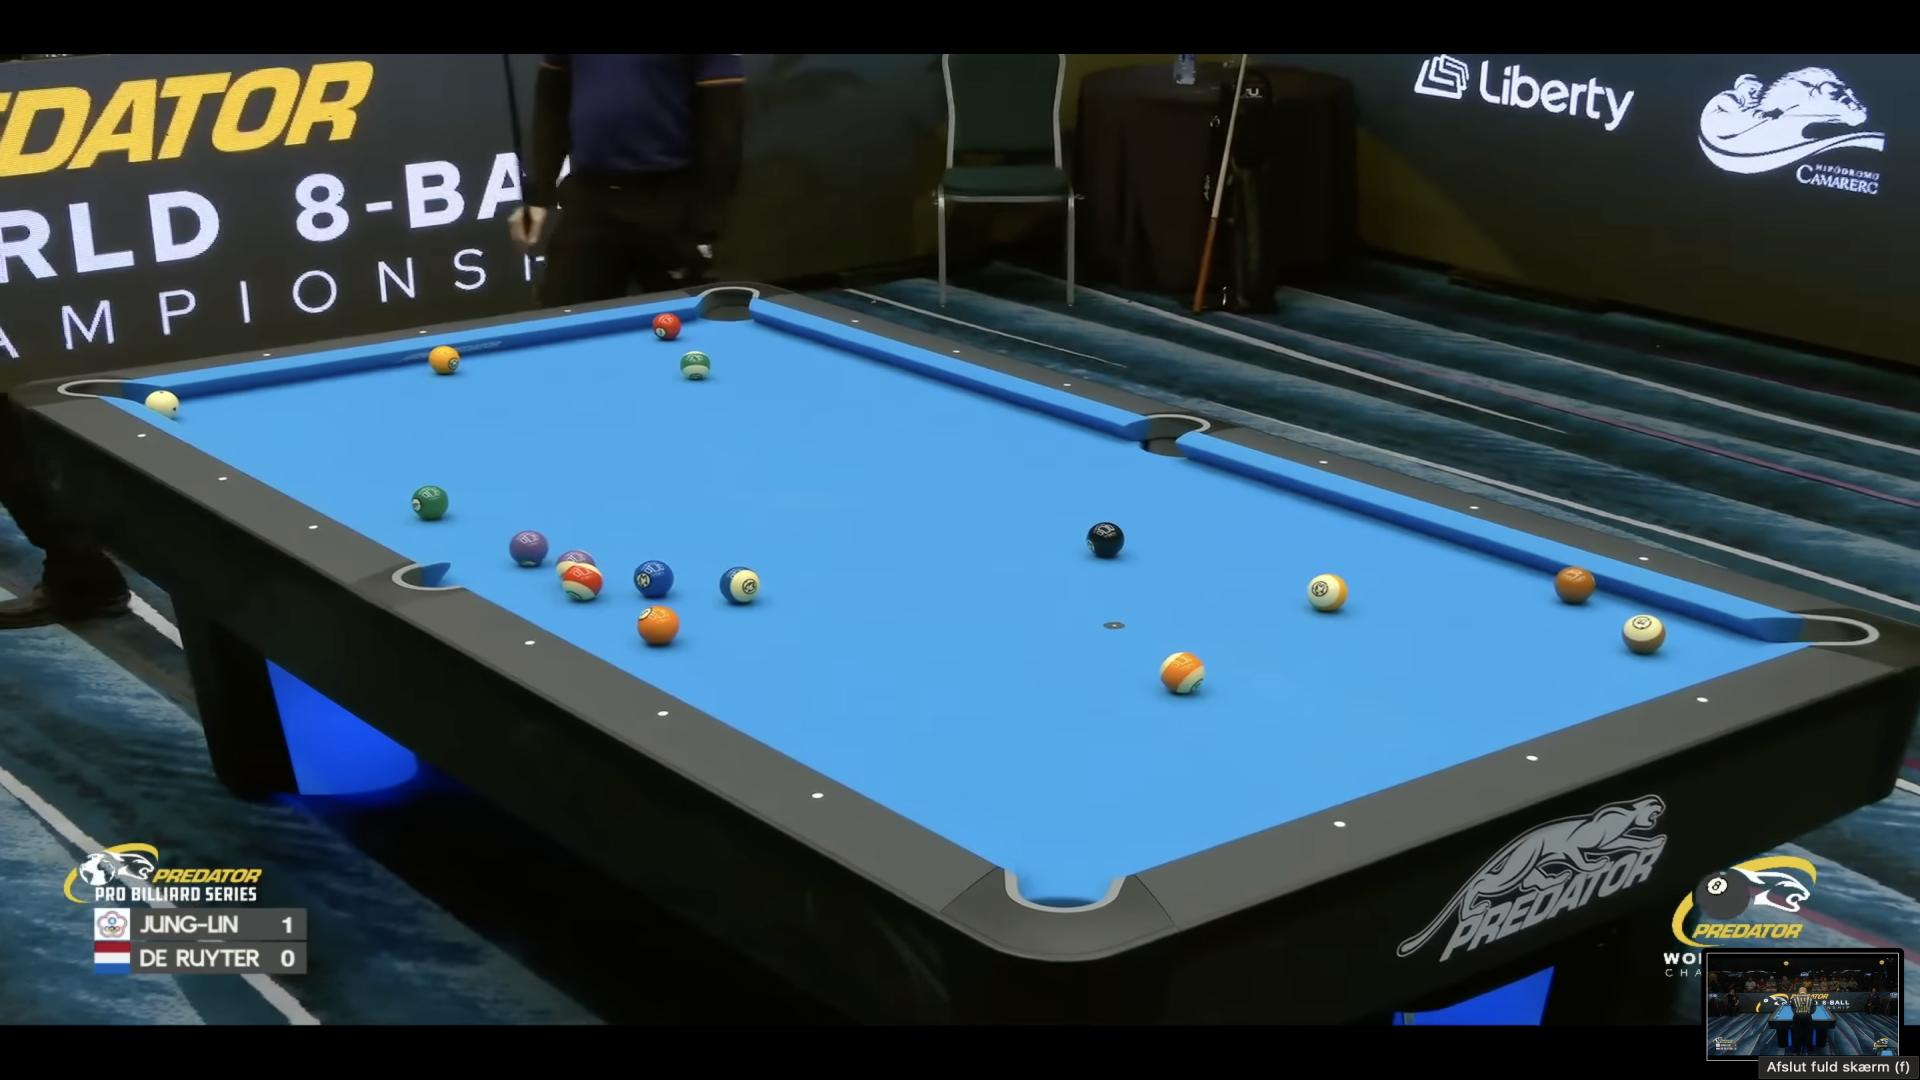Black: (1085, 521, 1125, 559)
Cue: (145, 390, 179, 419)
Dot: (1695, 692, 1712, 707), (1524, 752, 1542, 765), (1331, 818, 1346, 831), (522, 637, 537, 650), (811, 790, 824, 803), (655, 708, 670, 720), (1636, 553, 1650, 564), (1468, 502, 1481, 514), (1317, 456, 1331, 468), (218, 473, 229, 484), (562, 306, 574, 316), (136, 431, 146, 442), (261, 349, 272, 360), (418, 327, 429, 338), (309, 524, 319, 533), (1063, 381, 1072, 389), (953, 348, 961, 356), (851, 318, 858, 326)
Solid: (637, 605, 680, 644), (633, 559, 674, 599), (1553, 567, 1596, 605), (509, 530, 549, 567), (411, 485, 448, 520), (429, 345, 459, 375), (653, 313, 682, 339)
Striped: (1159, 651, 1205, 694), (1622, 613, 1665, 654), (1307, 574, 1349, 612), (563, 563, 603, 603), (719, 566, 760, 603), (556, 549, 595, 576), (679, 351, 711, 380)
